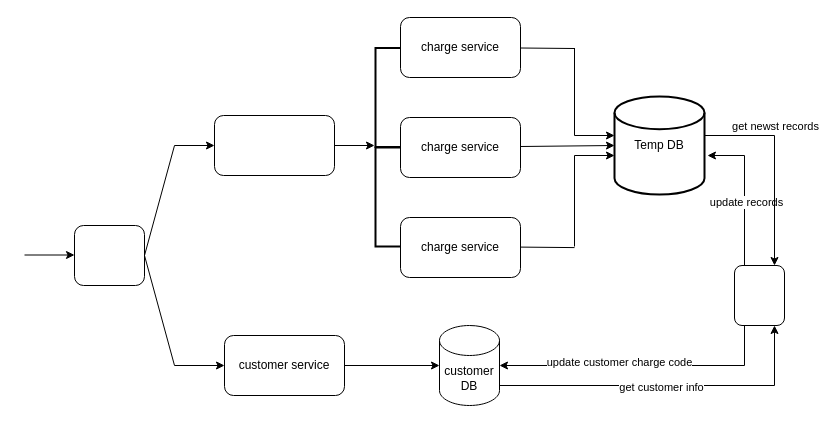
The diagram is 836 pixels wide and 423 high, and some of its shapes have lost their labels. Each missing label, with the centre of its shape:
dispatcher: (x=274, y=145)
gateway: (x=109, y=255)
job: (x=759, y=295)
